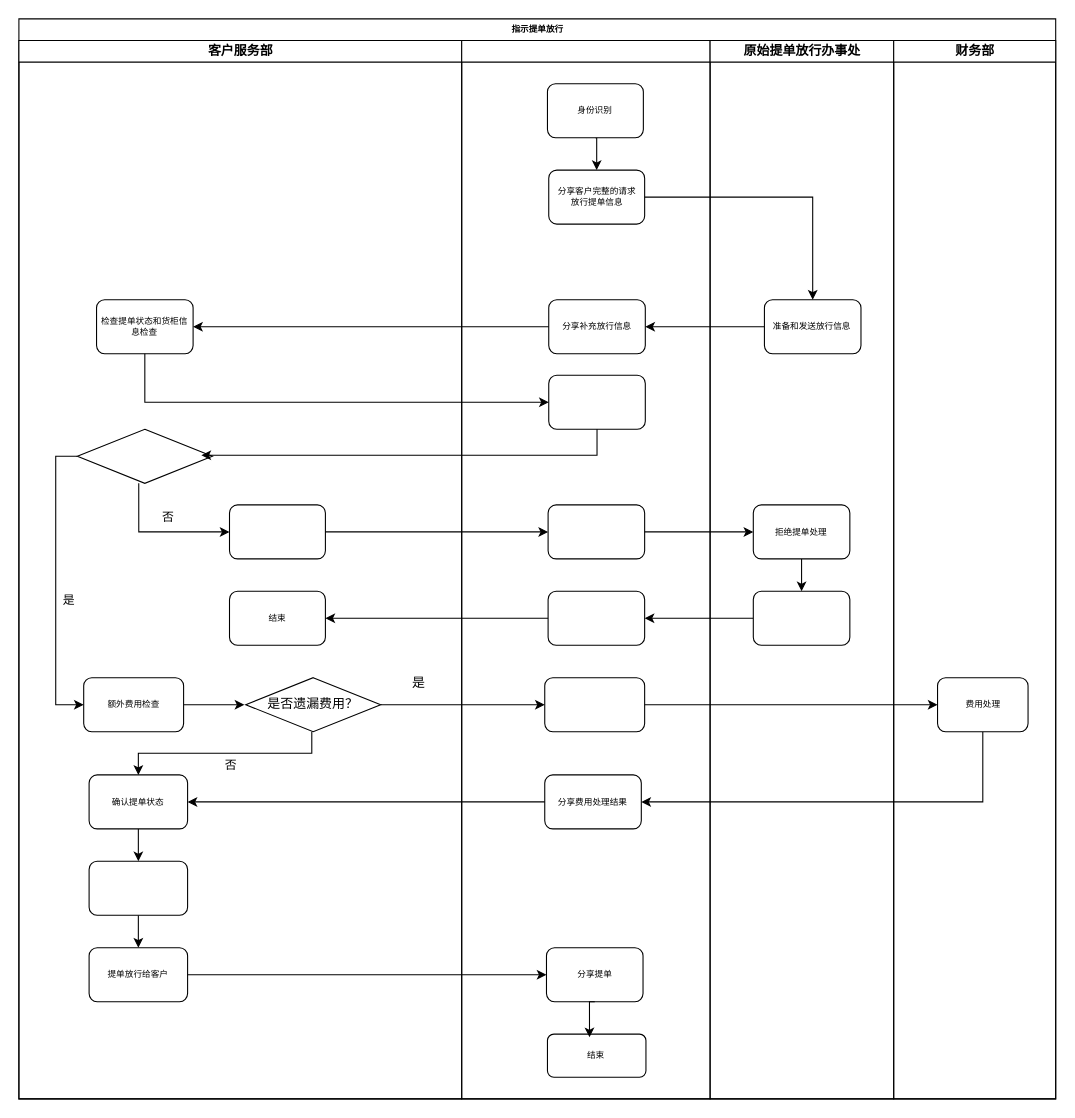
Image size: 1075x1118. Some labels were removed from this diagram. Here are the shapes that lost their labels. From the top down, the box of each, then its label:
(548, 374, 645, 429): 数据查询
(76, 428, 212, 483): 是否符合？
(228, 504, 325, 559): 拒绝提单申请
(547, 504, 645, 559): 分享拒绝提单信息
(461, 39, 710, 1099): 区块链数据平台
(547, 590, 645, 645): 分享处理结果
(752, 590, 850, 645): 更新处理结果
(544, 677, 645, 732): 分享额外费用信息
(88, 860, 188, 915): 最终确认重要信息
